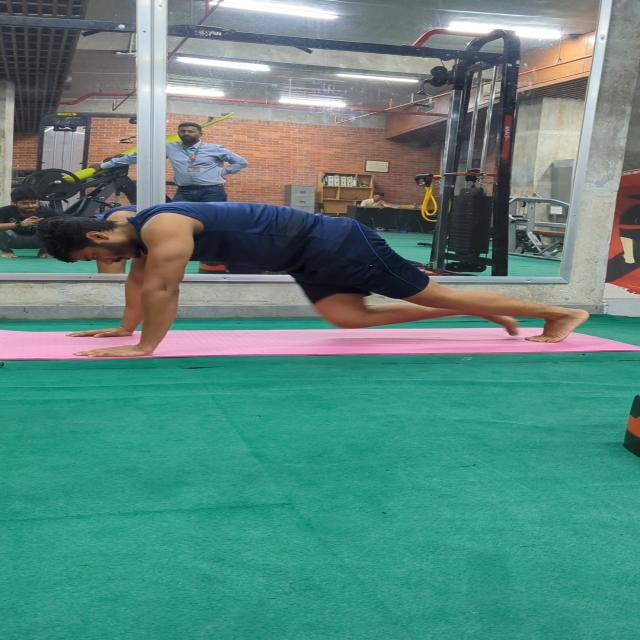Normal_MountainClimbers: (58, 193, 610, 358)
